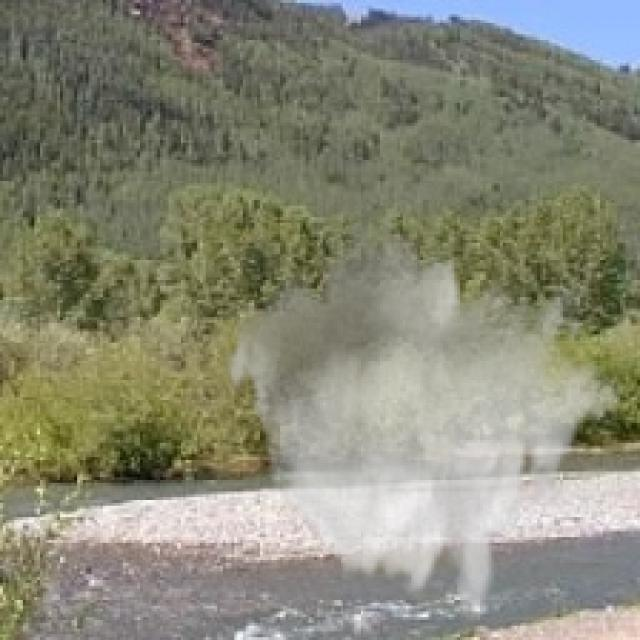Smoke: (223, 208, 626, 626)
